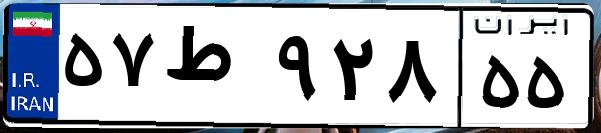2: (330, 28, 385, 110)
5: (57, 26, 110, 100), (475, 38, 525, 113), (525, 38, 570, 115)
7: (110, 28, 158, 98)
8: (385, 28, 445, 110)
9: (270, 28, 330, 110)
ط: (158, 20, 270, 120)
